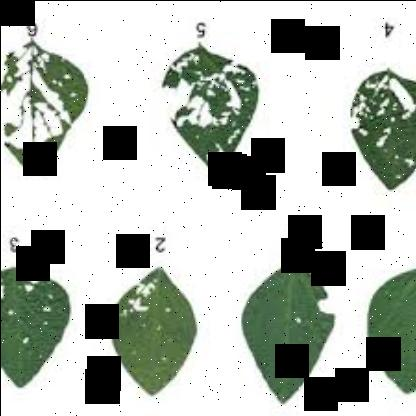agujero: (197, 70, 243, 116), (38, 61, 66, 127), (384, 74, 416, 122), (34, 95, 63, 139), (196, 98, 228, 132), (31, 108, 51, 158), (176, 92, 200, 127), (119, 294, 150, 316), (130, 276, 154, 300), (312, 290, 334, 314), (16, 267, 38, 283), (348, 110, 360, 134), (207, 144, 221, 162), (16, 331, 28, 345), (38, 302, 52, 314), (20, 282, 32, 294), (6, 306, 16, 318), (358, 125, 368, 137), (294, 315, 300, 327)
